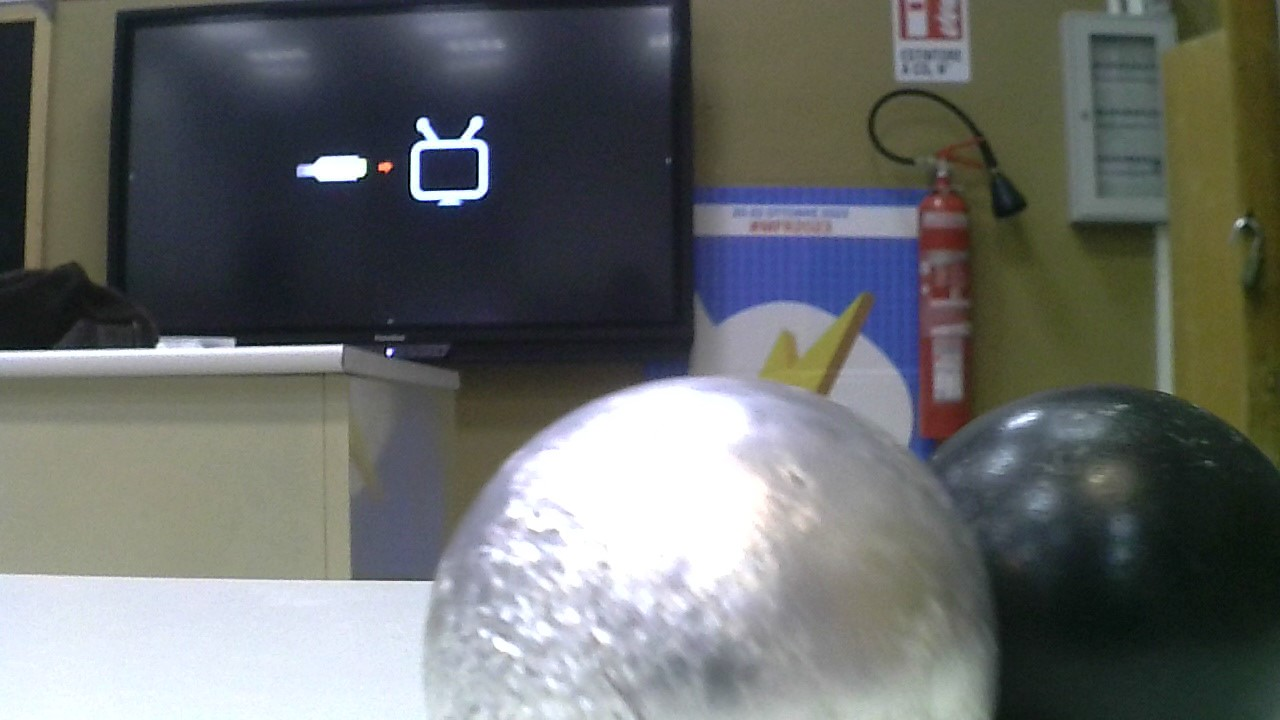black_ball: (932, 366, 1277, 720)
silver_ball: (416, 352, 1002, 720)
